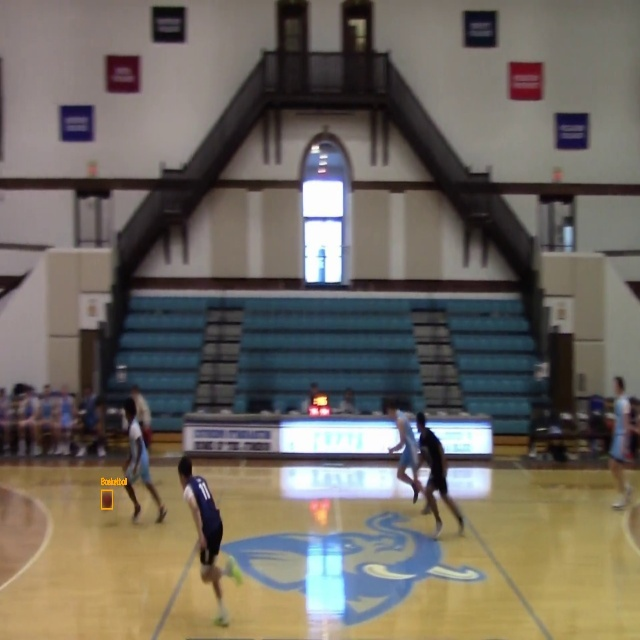Basketball: (101, 491, 113, 509)
